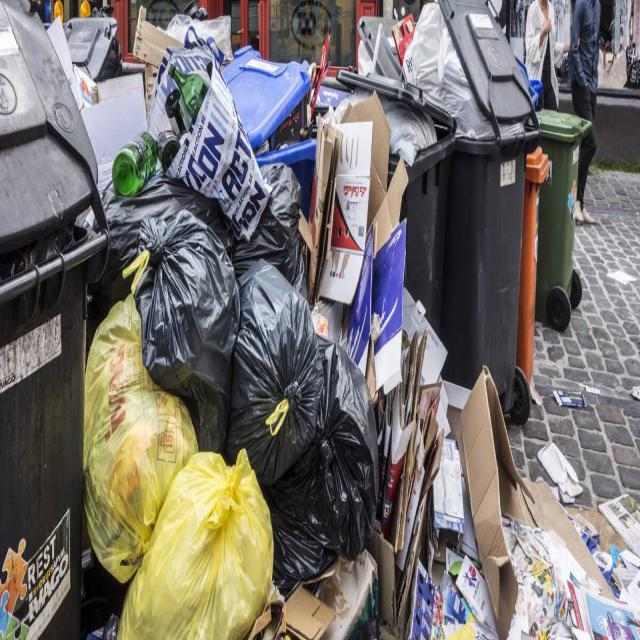Trashbag: (146, 238, 234, 436), (228, 290, 320, 477), (224, 162, 312, 301), (286, 450, 374, 575), (96, 174, 195, 254)
